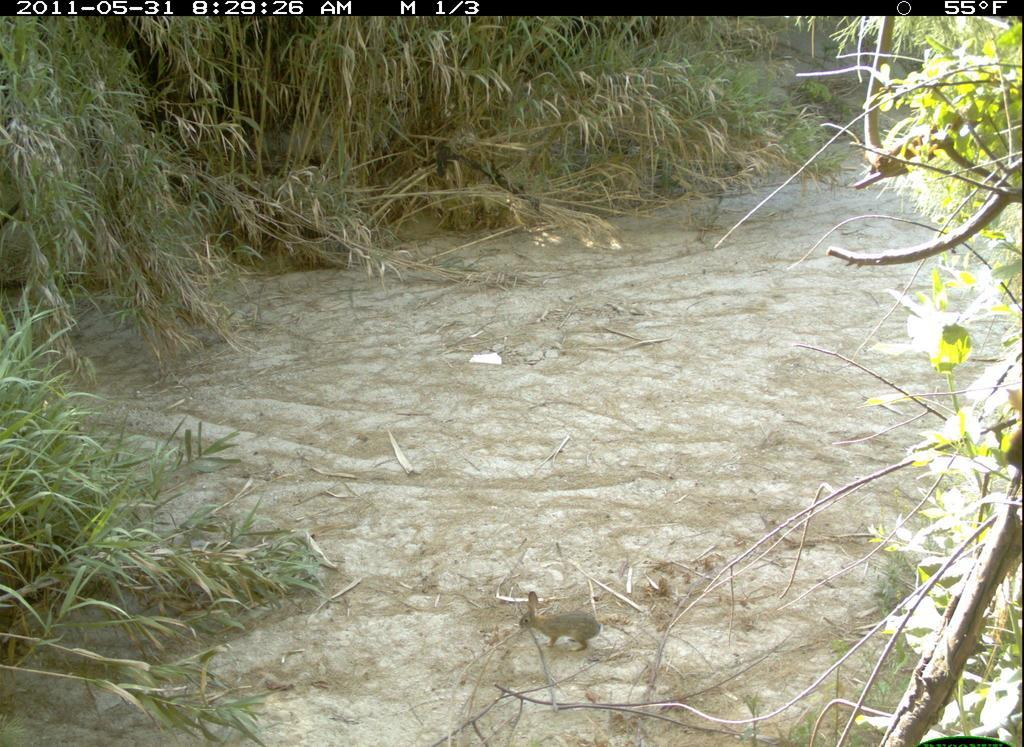rabbit: (511, 588, 609, 661)
